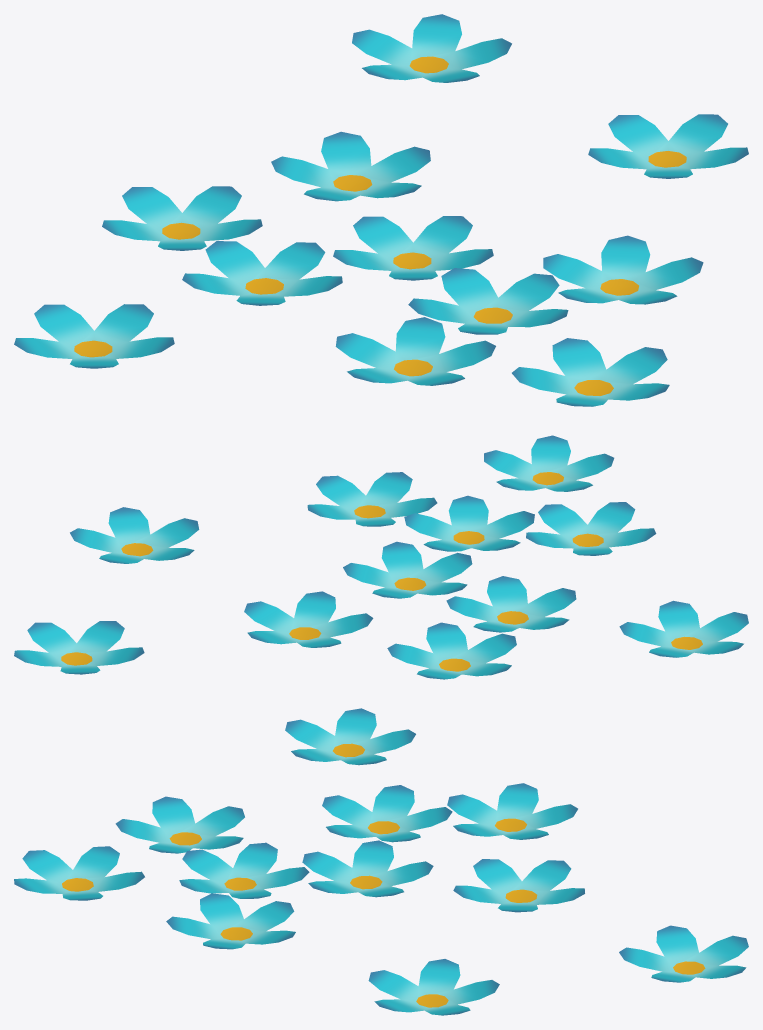
Rendered from floor_flower.glb.
3 views of the same model, one above another, from view 1: azimuth 30°, elevation 25°; view 2: azimuth 150°, elevation 25°; view 3: azimuth 270°, elevation 25° (orthographic). The views are drawn at different scales.
Visible parts, largest first — view 1: Flower.014; view 2: Flower.014; view 3: Flower.014.
Boxes of the visible parts, bbox=[...] form: Flower.014: bbox=[14, 14, 748, 406]; Flower.014: bbox=[14, 435, 748, 679]; Flower.014: bbox=[14, 708, 748, 1015].
Size of the model in its own units: 2.38 by 0.0506 by 2.41.
1 material, 1 textured.
